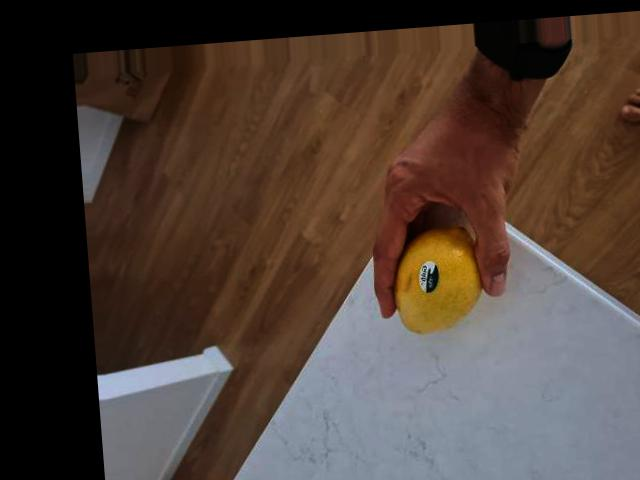lemon: (385, 220, 487, 337)
